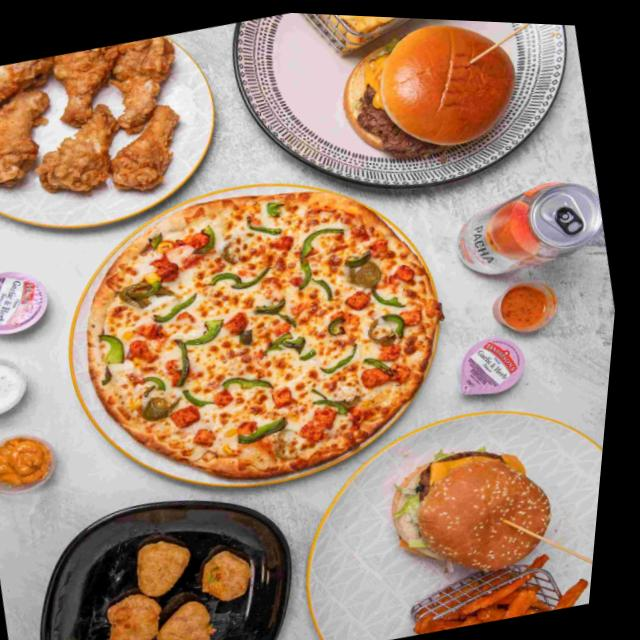burger: (324, 12, 537, 174), (383, 422, 579, 590)
pizza: (51, 146, 488, 519)
